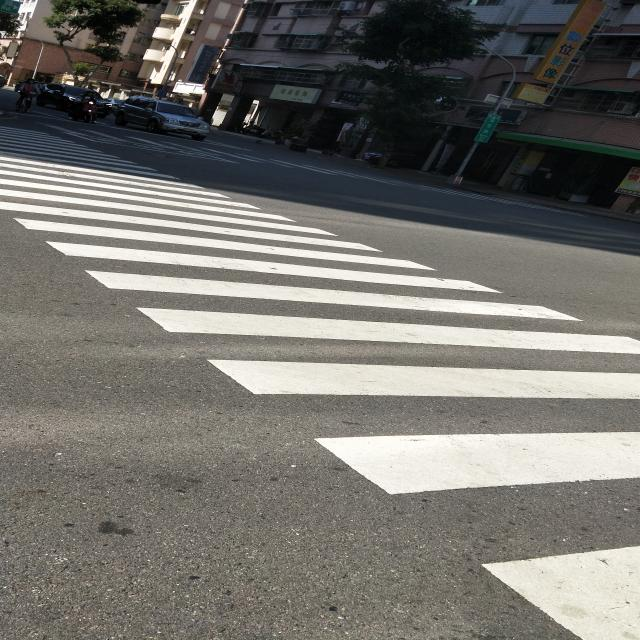zebra_crossing: (3, 55, 72, 189), (615, 270, 640, 404)
